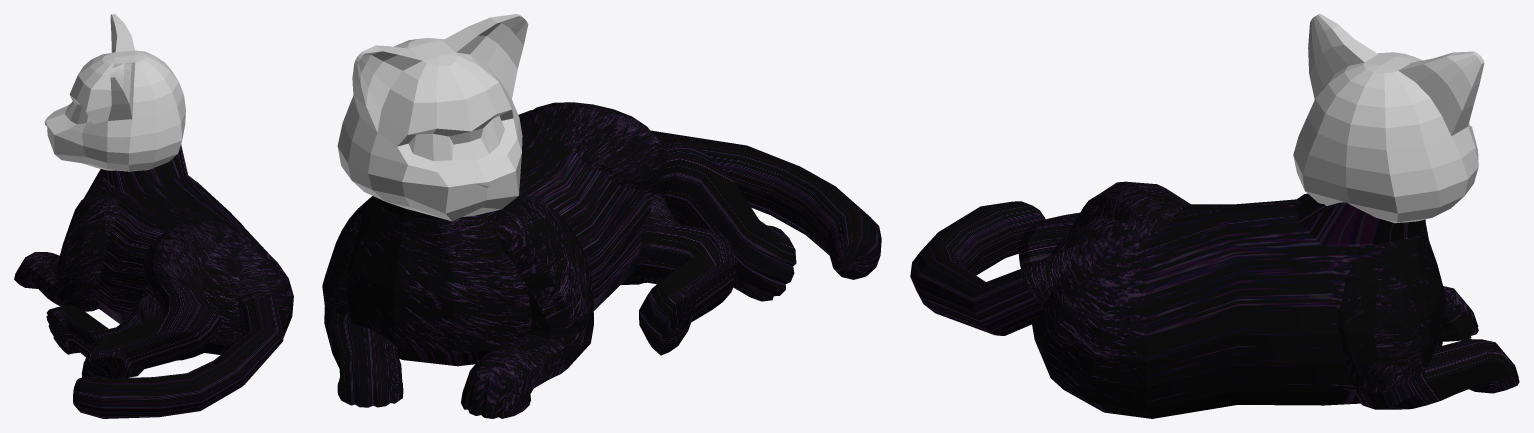
The model's file is Cat.fbx.
3 renders of one model, left to right at view 1: azimuth 30°, elevation 25°; view 2: azimuth 150°, elevation 25°; view 3: azimuth 270°, elevation 25°, orthographic. The views are drawn at different scales.
Visible parts, largest first — view 1: cat_body, cat_head2, back_leg2, tail, front_leg, back_leg; view 2: cat_body, cat_head2, back_leg2, front_leg, tail, back_leg, front_leg2; view 3: cat_body, cat_head2, front_leg2, tail, back_leg2, front_leg.
Boxes of the visible parts, x1,y1,x2,y2 form: cat_body: (84,144,293,354); cat_head2: (44,14,185,171); back_leg2: (81,219,232,378); tail: (73,261,283,418); front_leg: (14,191,120,311); back_leg: (46,295,203,377); cat_body: (346,110,666,366); cat_head2: (337,14,528,221); back_leg2: (521,102,796,301); front_leg: (461,196,593,418); tail: (651,130,881,279); back_leg: (621,193,737,355); front_leg2: (322,196,403,407); cat_body: (1032,194,1445,418); cat_head2: (1293,14,1484,223); front_leg2: (1337,259,1519,409); tail: (910,201,1081,335); back_leg2: (1017,181,1190,268); front_leg: (1297,193,1478,341).
Size of the model in its own units: 3.42 by 3.08 by 4.94.
